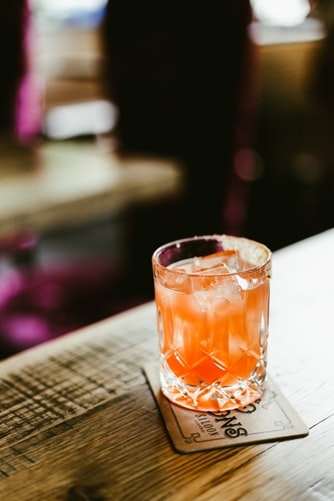whiskey: (155, 238, 278, 410)
